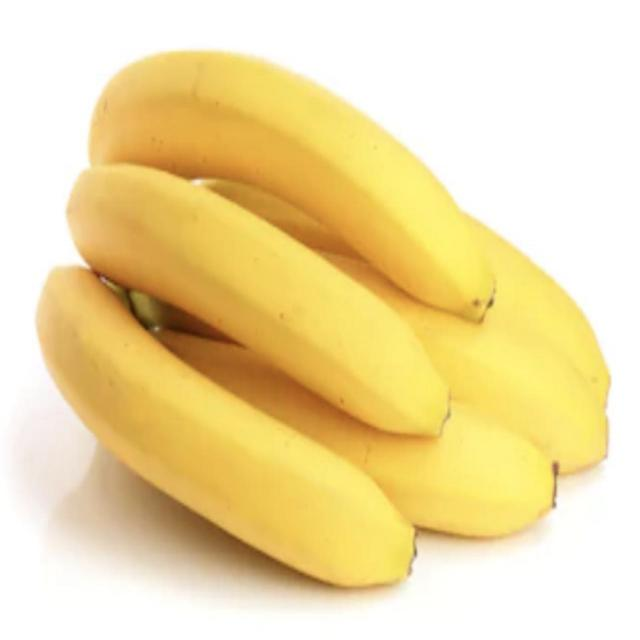banana: (87, 21, 557, 386), (37, 166, 529, 486), (17, 271, 459, 583)
